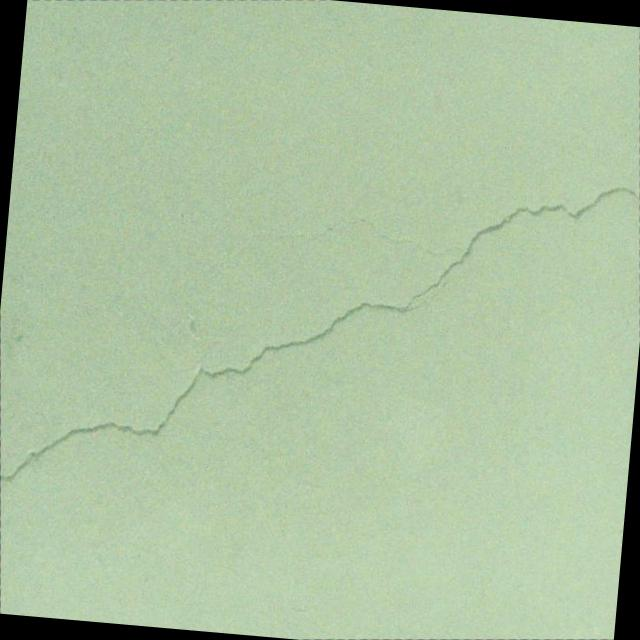crack: (0, 132, 640, 539)
